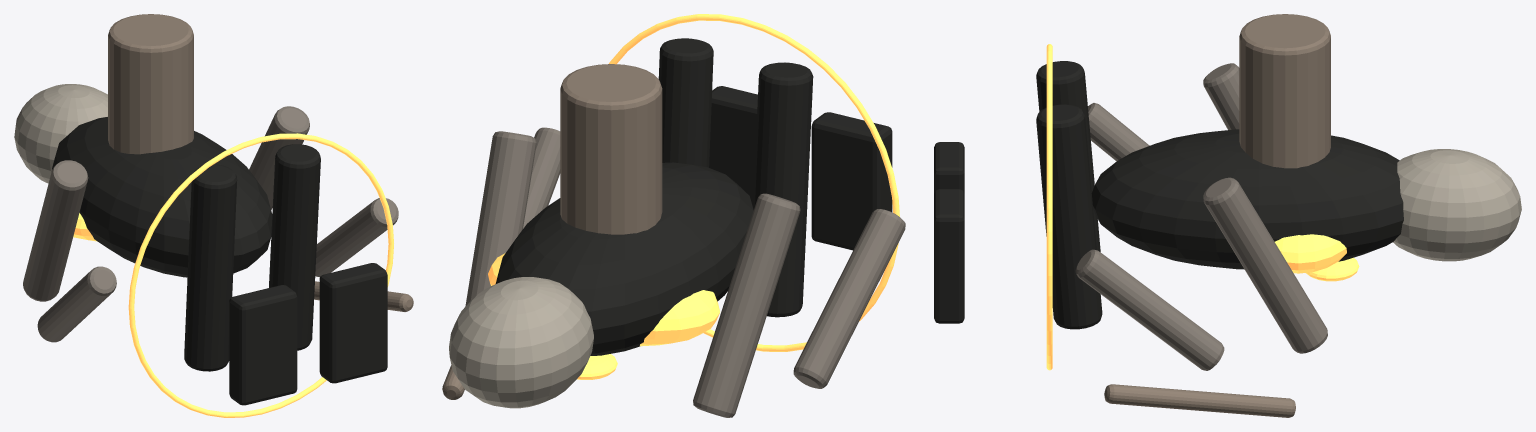
Rendered from dz_boss_gas_station_igniter.glb.
3 renders of one model, left to right at view 1: azimuth 30°, elevation 25°; view 2: azimuth 150°, elevation 25°; view 3: azimuth 270°, elevation 25°, orthographic. The views are drawn at different scales.
Parts seen in each view (by area): view 1: dz_torso_boss_gas_igniter, dz_back_fuel_tank_gas_igniter, dz_limb_leg_l_gas_igniter, dz_limb_foot_r_gas_igniter, dz_limb_leg_r_gas_igniter, dz_limb_foot_l_gas_igniter, dz_limb_arm_l_gas_igniter, dz_head_boss_gas_igniter, dz_boss_attack_cue_gas_igniter, dz_limb_forearm_r_gas_igniter, dz_limb_forearm_l_gas_igniter, dz_limb_arm_r_gas_igniter (+1 smaller); view 2: dz_torso_boss_gas_igniter, dz_back_fuel_tank_gas_igniter, dz_head_boss_gas_igniter, dz_limb_arm_l_gas_igniter, dz_limb_leg_l_gas_igniter, dz_limb_foot_l_gas_igniter, dz_limb_forearm_l_gas_igniter, dz_limb_leg_r_gas_igniter, dz_limb_arm_r_gas_igniter, dz_limb_foot_r_gas_igniter, dz_boss_attack_cue_gas_igniter, dz_chest_boss_gas_igniter (+3 smaller); view 3: dz_torso_boss_gas_igniter, dz_back_fuel_tank_gas_igniter, dz_head_boss_gas_igniter, dz_limb_leg_r_gas_igniter, dz_limb_arm_r_gas_igniter, dz_limb_forearm_r_gas_igniter, dz_limb_foot_r_gas_igniter, dz_weapon_flame_nozzle_gas_igniter, dz_limb_leg_l_gas_igniter, dz_boss_attack_cue_gas_igniter, dz_chest_boss_gas_igniter, dz_limb_forearm_l_gas_igniter (+3 smaller).
Part boxes in pixels (bbox=[...]): dz_torso_boss_gas_igniter: bbox=[52, 117, 272, 277]; dz_back_fuel_tank_gas_igniter: bbox=[108, 14, 193, 154]; dz_limb_leg_l_gas_igniter: bbox=[184, 164, 237, 371]; dz_limb_foot_r_gas_igniter: bbox=[319, 263, 387, 383]; dz_limb_leg_r_gas_igniter: bbox=[269, 144, 320, 350]; dz_limb_foot_l_gas_igniter: bbox=[229, 285, 297, 405]; dz_limb_arm_l_gas_igniter: bbox=[23, 160, 88, 301]; dz_head_boss_gas_igniter: bbox=[14, 84, 107, 183]; dz_boss_attack_cue_gas_igniter: bbox=[128, 133, 393, 417]; dz_limb_forearm_r_gas_igniter: bbox=[315, 198, 398, 277]; dz_limb_forearm_l_gas_igniter: bbox=[37, 266, 116, 342]; dz_limb_arm_r_gas_igniter: bbox=[249, 106, 309, 209]; dz_torso_boss_gas_igniter: bbox=[495, 162, 753, 355]; dz_back_fuel_tank_gas_igniter: bbox=[560, 64, 662, 234]; dz_head_boss_gas_igniter: bbox=[449, 277, 593, 408]; dz_limb_arm_l_gas_igniter: bbox=[693, 193, 800, 417]; dz_limb_leg_l_gas_igniter: bbox=[753, 62, 813, 317]; dz_limb_foot_l_gas_igniter: bbox=[811, 112, 892, 250]; dz_limb_forearm_l_gas_igniter: bbox=[793, 209, 905, 388]; dz_limb_leg_r_gas_igniter: bbox=[658, 38, 713, 167]; dz_limb_arm_r_gas_igniter: bbox=[465, 131, 536, 306]; dz_limb_foot_r_gas_igniter: bbox=[709, 86, 757, 206]; dz_boss_attack_cue_gas_igniter: bbox=[609, 14, 899, 351]; dz_chest_boss_gas_igniter: bbox=[488, 253, 719, 346]; dz_torso_boss_gas_igniter: bbox=[1091, 129, 1403, 269]; dz_back_fuel_tank_gas_igniter: bbox=[1239, 14, 1330, 168]; dz_head_boss_gas_igniter: bbox=[1393, 149, 1521, 261]; dz_limb_leg_r_gas_igniter: bbox=[1036, 104, 1102, 329]; dz_limb_arm_r_gas_igniter: bbox=[1203, 177, 1327, 353]; dz_limb_forearm_r_gas_igniter: bbox=[1075, 249, 1224, 370]; dz_limb_foot_r_gas_igniter: bbox=[934, 189, 964, 323]; dz_weapon_flame_nozzle_gas_igniter: bbox=[1104, 384, 1295, 417]; dz_limb_leg_l_gas_igniter: bbox=[1036, 61, 1100, 251]; dz_boss_attack_cue_gas_igniter: bbox=[1046, 44, 1052, 370]; dz_chest_boss_gas_igniter: bbox=[1275, 234, 1346, 273]; dz_limb_forearm_l_gas_igniter: bbox=[1088, 103, 1149, 161].
Bounding box in the file's own units: 1.89 × 1.64 × 2.69.
